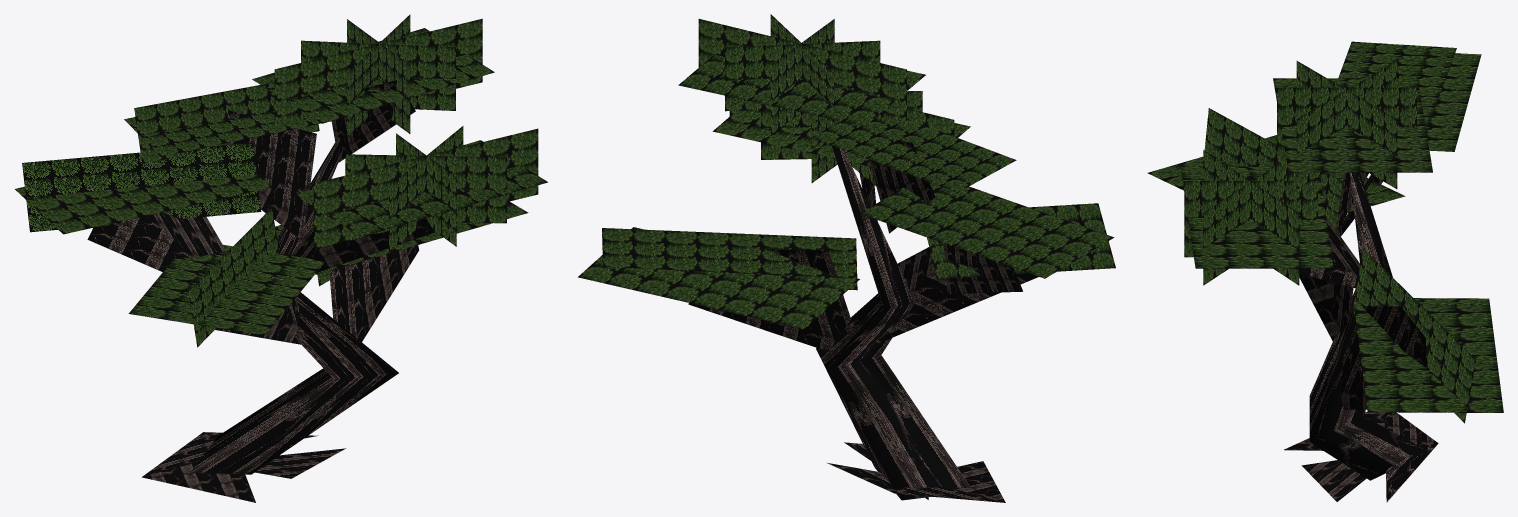
3 views of the same model, side by side, from view 1: azimuth 30°, elevation 25°; view 2: azimuth 150°, elevation 25°; view 3: azimuth 270°, elevation 25° (orthographic). The views are drawn at different scales.
Visible parts, largest first — view 1: 3742kg_ga_00; view 2: 3742kg_ga_00; view 3: 3742kg_ga_00.
Boxes of the visible parts, x1,y1,x2,y2 form: 3742kg_ga_00: [15, 14, 547, 502]; 3742kg_ga_00: [578, 14, 1115, 502]; 3742kg_ga_00: [1147, 41, 1503, 502].
Bounding box in the file's own units: 2.05 × 1.67 × 1.22.
2 materials, 2 textured.
